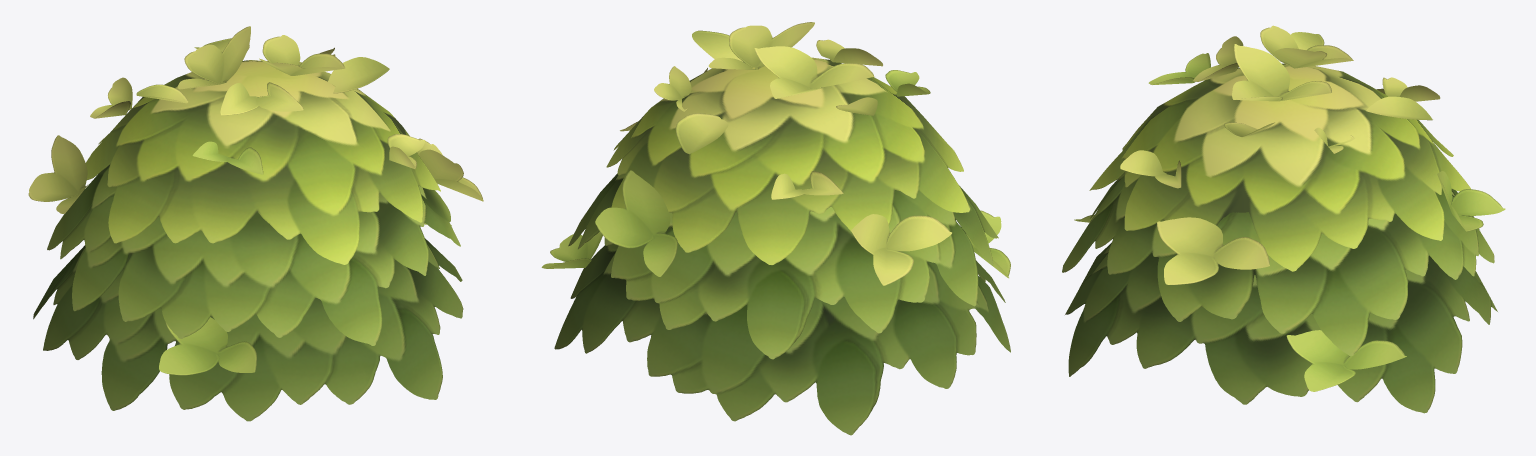
The model's file is EnvFlora001_Bush.fbx.
The picture shows the model from 3 angles, left to right: view 1: azimuth 30°, elevation 25°; view 2: azimuth 150°, elevation 25°; view 3: azimuth 270°, elevation 25°; orthographic projection.
Visible parts, largest first — view 1: Sphere.001, Sphere.005, Sphere.006, Sphere.012, Sphere.017, Sphere.021, Sphere.022, Sphere.020, Sphere.004, Sphere.008, Sphere.023, Sphere.018; view 2: Sphere.001, Sphere.003, Sphere.006, Sphere.012, Sphere.017, Sphere.019, Sphere.007, Sphere.008, Sphere.021, Sphere.009, Sphere.020, Sphere.004 (+2 smaller); view 3: Sphere.001, Sphere.022, Sphere.007, Sphere.017, Sphere.012, Sphere.003, Sphere.023, Sphere.019, Sphere.021, Sphere.004, Sphere.008.
Boxes of the visible parts, x1,y1,x2,y2 form: Sphere.001: (33, 60, 463, 421); Sphere.005: (159, 317, 256, 375); Sphere.006: (28, 135, 87, 213); Sphere.012: (177, 26, 250, 89); Sphere.017: (259, 35, 345, 75); Sphere.021: (220, 82, 303, 115); Sphere.022: (417, 138, 483, 201); Sphere.020: (328, 57, 389, 93); Sphere.004: (192, 141, 263, 174); Sphere.008: (90, 77, 132, 118); Sphere.023: (387, 134, 425, 169); Sphere.018: (136, 84, 188, 103); Sphere.001: (554, 57, 1010, 435); Sphere.003: (595, 170, 677, 276); Sphere.006: (851, 214, 951, 285); Sphere.012: (754, 46, 874, 98); Sphere.017: (708, 22, 814, 69); Sphere.019: (675, 113, 728, 154); Sphere.007: (541, 231, 602, 268); Sphere.008: (771, 171, 843, 199); Sphere.021: (816, 39, 882, 66); Sphere.009: (654, 66, 691, 111); Sphere.020: (692, 30, 742, 61); Sphere.004: (885, 70, 930, 96); Sphere.001: (1062, 63, 1497, 413); Sphere.022: (1157, 217, 1269, 284); Sphere.007: (1286, 330, 1406, 391); Sphere.017: (1232, 44, 1331, 101); Sphere.012: (1260, 25, 1353, 68); Sphere.003: (1437, 171, 1505, 231); Sphere.023: (1120, 150, 1181, 188); Sphere.019: (1365, 96, 1432, 120); Sphere.021: (1193, 36, 1243, 81); Sphere.004: (1148, 53, 1210, 84); Sphere.008: (1382, 77, 1440, 101).
Bounding box in the file's own units: 207 × 147 × 204.
Materials: 1 (1 with a texture image).
